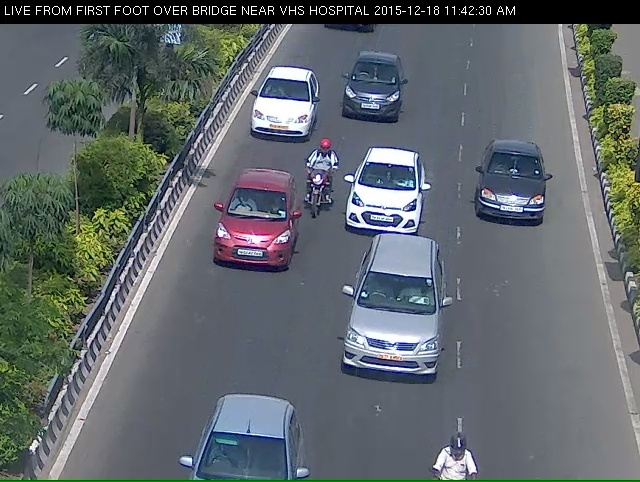Car: (343, 264, 446, 411), (209, 184, 291, 293), (342, 158, 428, 249), (476, 144, 552, 246), (185, 422, 302, 481), (246, 76, 315, 152), (344, 60, 402, 136)
Person: (299, 160, 327, 237)
